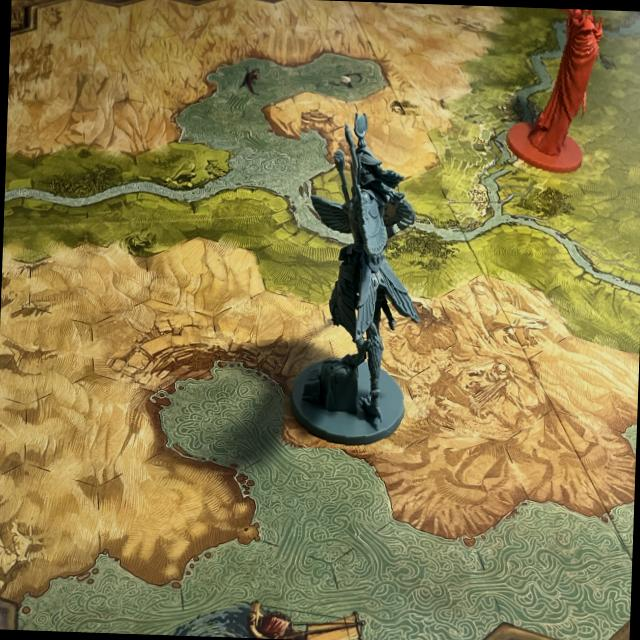amon: (504, 6, 615, 183)
isis: (285, 110, 443, 453)
